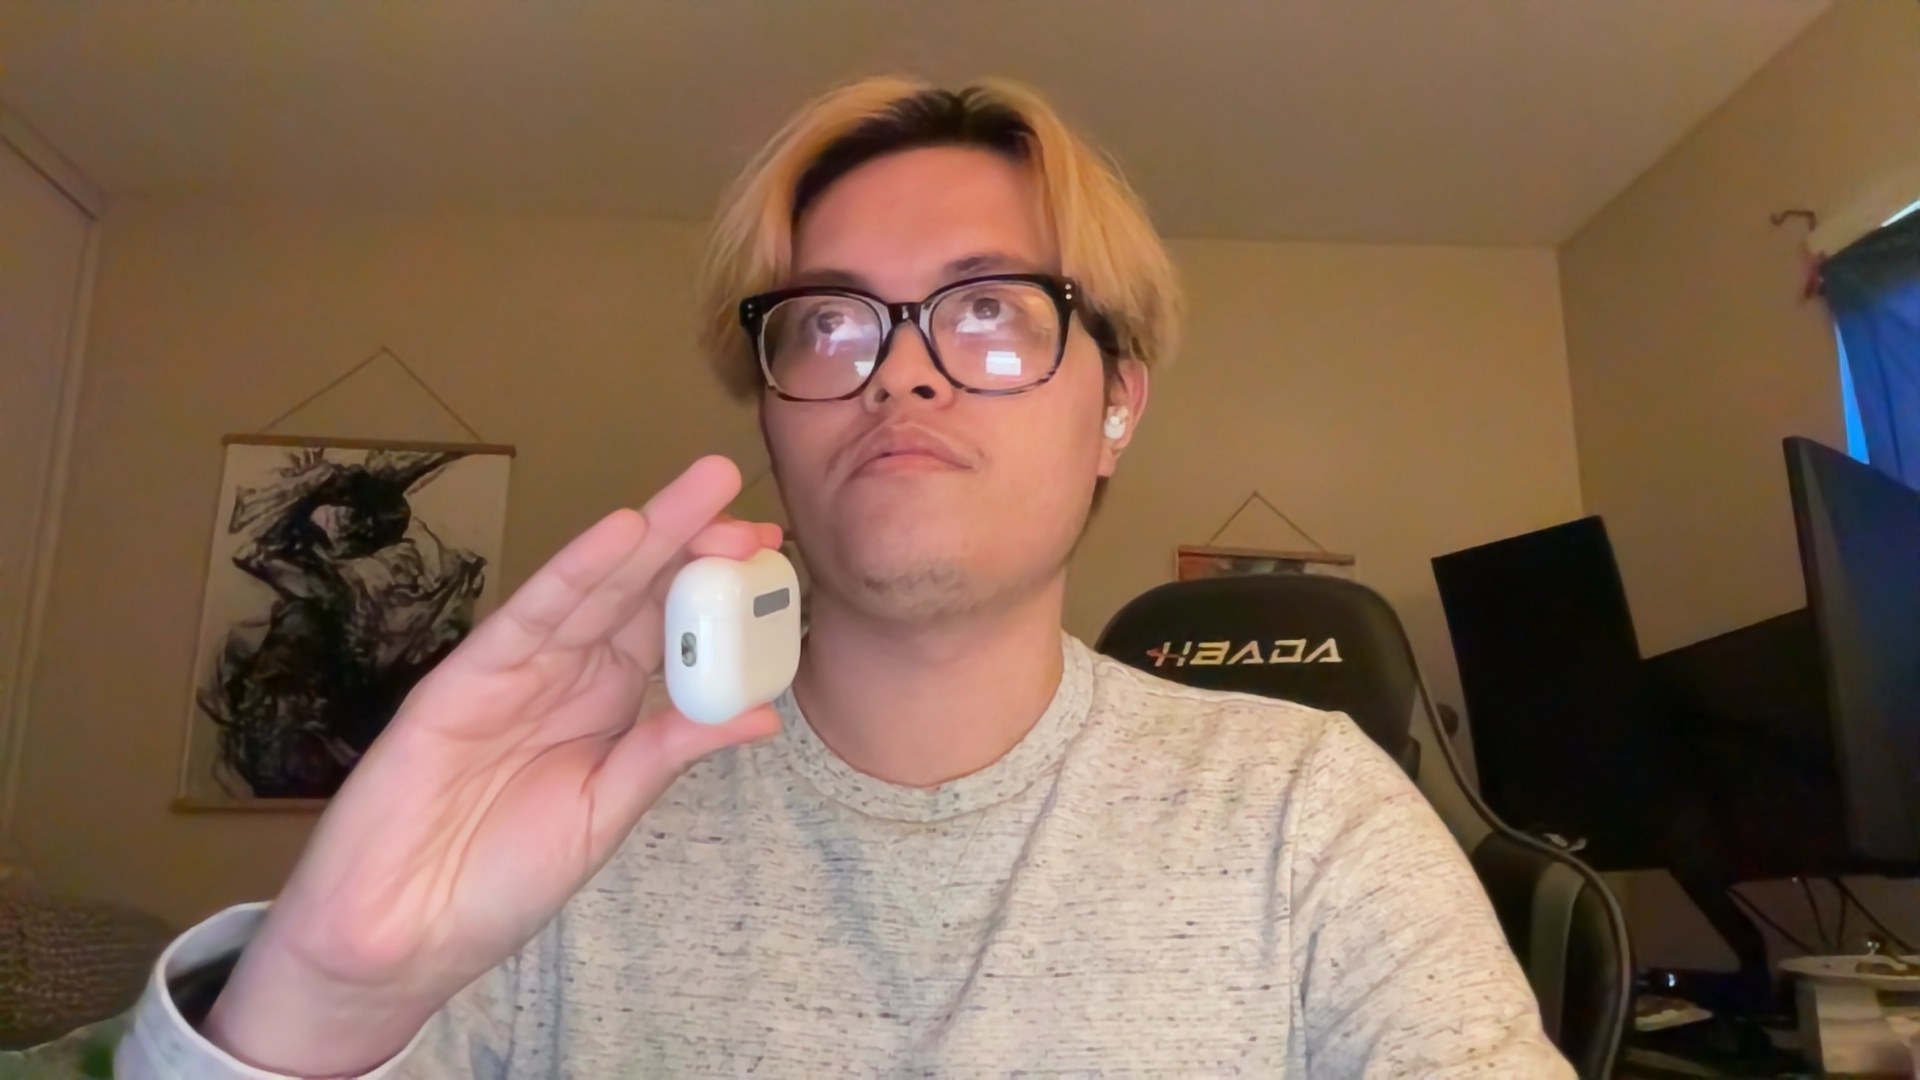airpods: (659, 545, 808, 725)
